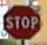stop: (3, 4, 42, 39)
